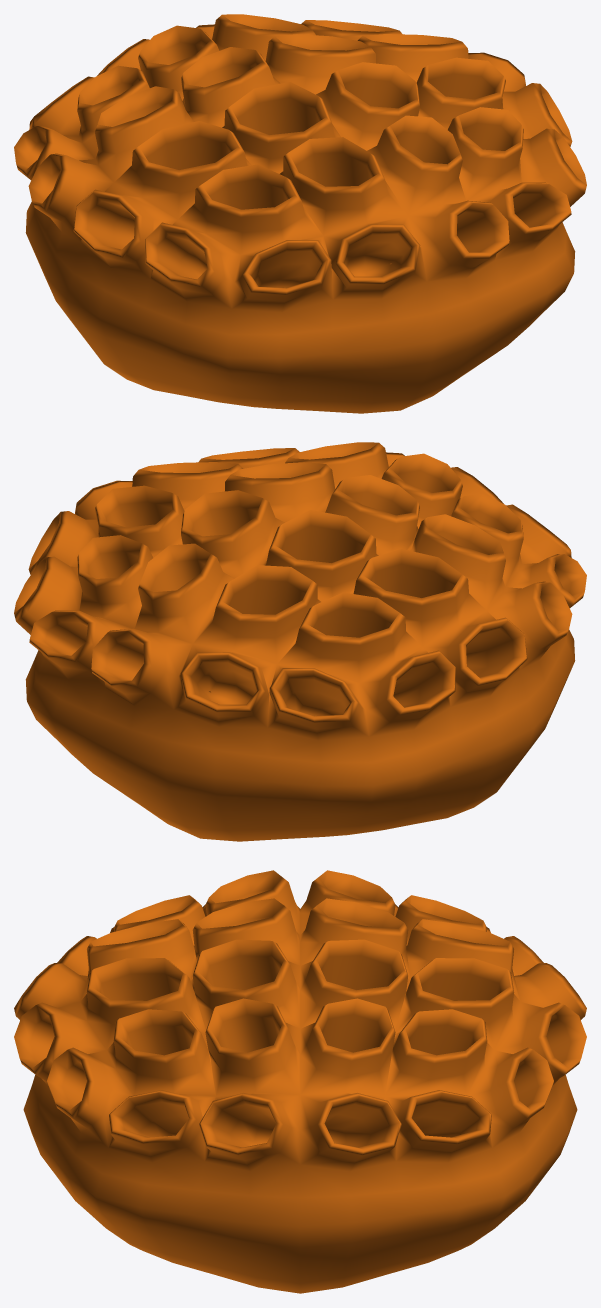
File: Koraal3.fbx
3 renders of one model, top to bottom at view 1: azimuth 30°, elevation 25°; view 2: azimuth 150°, elevation 25°; view 3: azimuth 270°, elevation 25°, orthographic. The views are drawn at different scales.
Visible parts, largest first — view 1: CubeBubbelKoraal; view 2: CubeBubbelKoraal; view 3: CubeBubbelKoraal.
Part boxes in pixels (box(x1,y1,x2,y2)): CubeBubbelKoraal: box(14, 14, 586, 413); CubeBubbelKoraal: box(14, 442, 586, 841); CubeBubbelKoraal: box(14, 870, 586, 1293).
Size of the model in its own units: 216 by 130 by 216.
